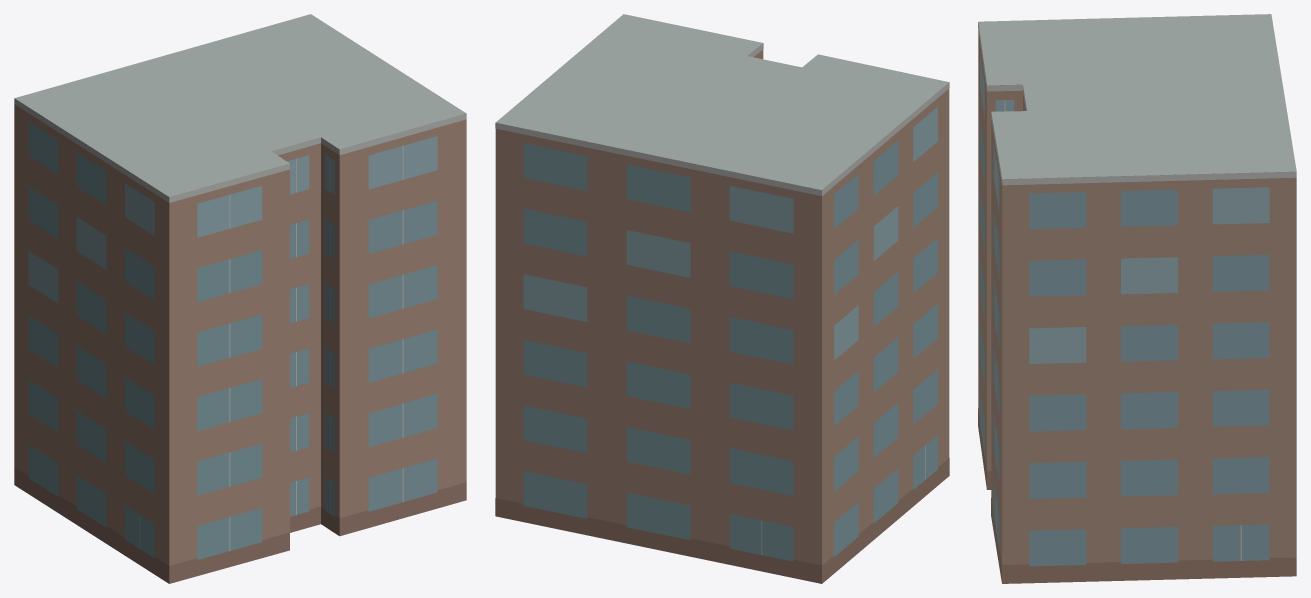
File: survey-upis-32965882.glb
The picture shows the model from 3 angles, left to right: view 1: azimuth 30°, elevation 25°; view 2: azimuth 150°, elevation 25°; view 3: azimuth 270°, elevation 25°; orthographic projection. The views are drawn at different scales.
Parts seen in each view (by area): view 1: survey-upis-32965882.tmp; view 2: survey-upis-32965882.tmp; view 3: survey-upis-32965882.tmp.
Part boxes in pixels (x1,y1,x2,y2): survey-upis-32965882.tmp: (14, 14, 466, 583); survey-upis-32965882.tmp: (495, 14, 949, 583); survey-upis-32965882.tmp: (978, 14, 1296, 583).
Size of the model in its own units: 14.11 by 16.1 by 11.5.
